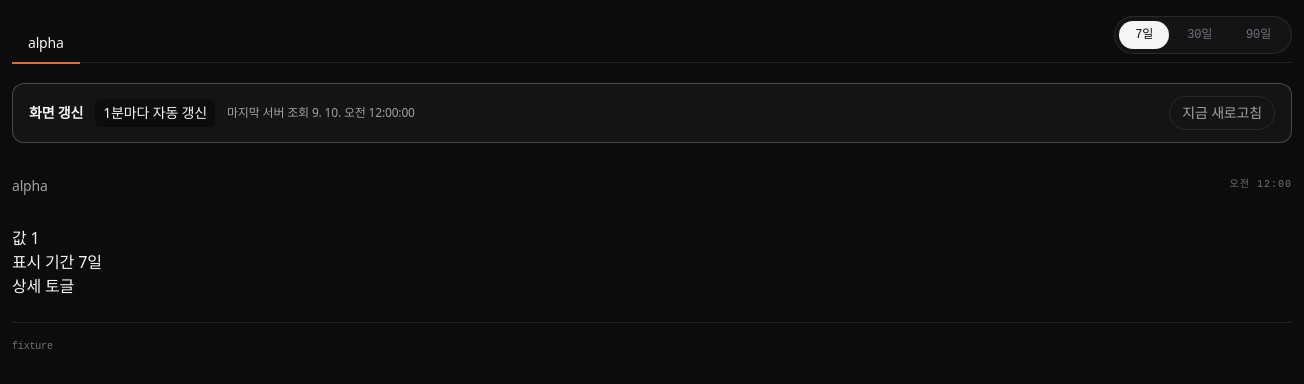
Scenario: 기간 변경 실패 시 이전 기간임을 표시하고 이전 값을 새 기간으로 표시하지 않는다
What coordinates should you click on to do the following:
click the button "30일"
I would click on:
 (1200, 35)
Its box is [1171, 21, 1228, 49].
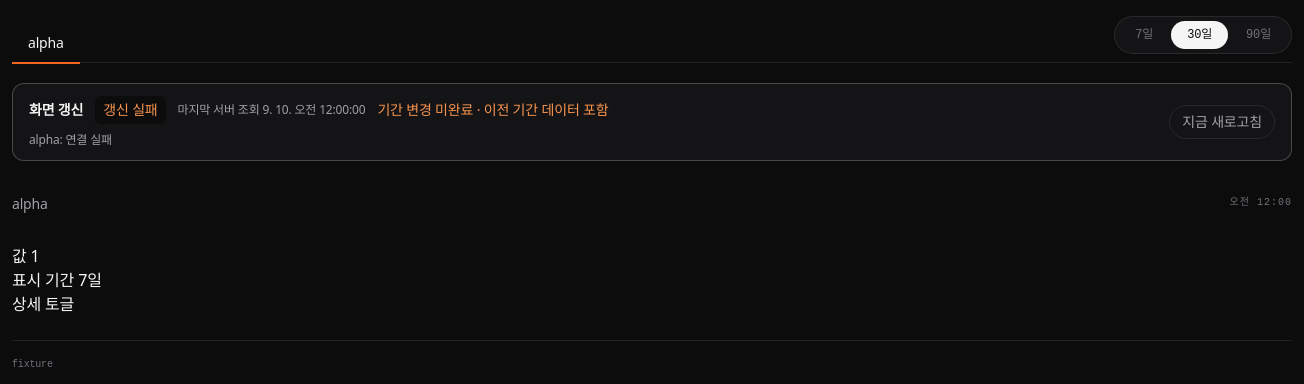
Check: the text "표시 기간 7일" is shown, box [12, 269, 102, 291]
Check: the text "기간 변경 미완료 · 이전 기간 데이터 포함" is shown, box [377, 100, 608, 120]
